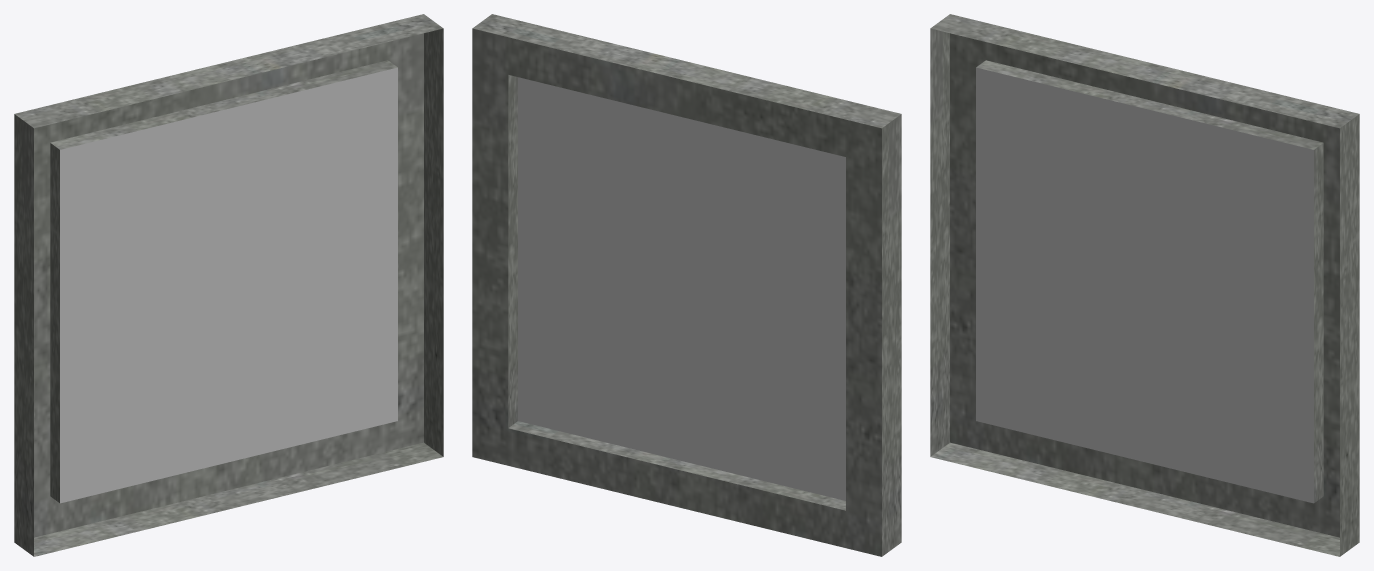
The model's file is windowWide_typeD.fbx.
3 views of the same model, side by side, from view 1: azimuth 30°, elevation 25°; view 2: azimuth 150°, elevation 25°; view 3: azimuth 330°, elevation 25° (orthographic).
Visible parts, largest first — view 1: windowWide_typeD; view 2: windowWide_typeD; view 3: windowWide_typeD.
Part boxes in pixels (x1,y1,x2,y2): windowWide_typeD: (14, 14, 443, 556); windowWide_typeD: (472, 14, 901, 556); windowWide_typeD: (930, 14, 1359, 556).
Bounding box in the file's own units: 5.98 × 5.98 × 0.5.
